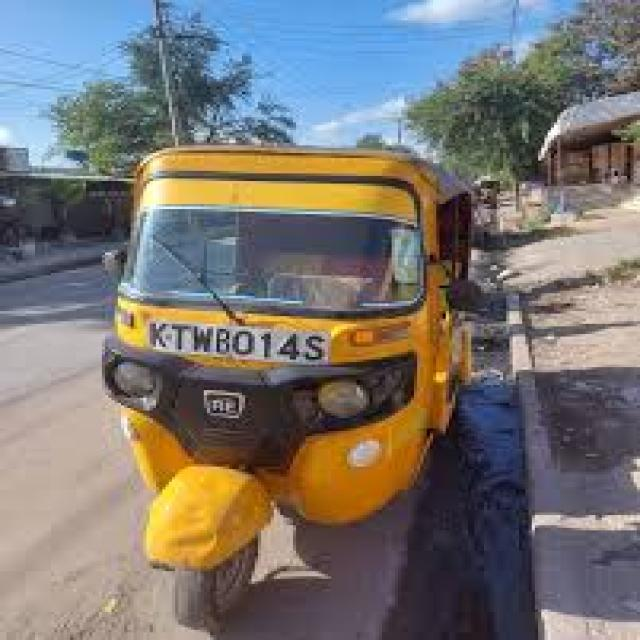tuktuk: (64, 82, 514, 639)
